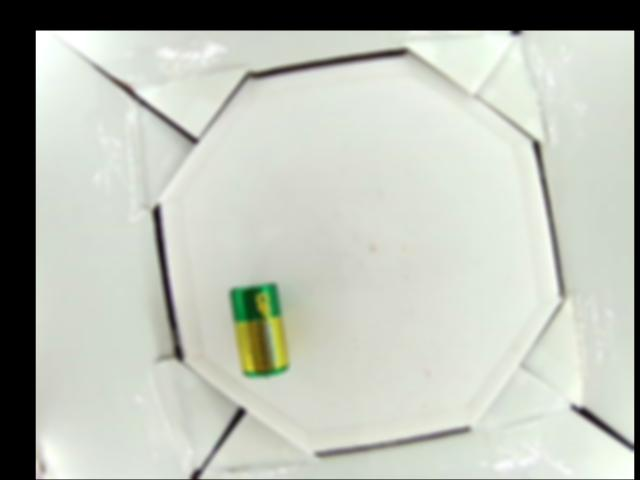Battery: (225, 282, 289, 378)
